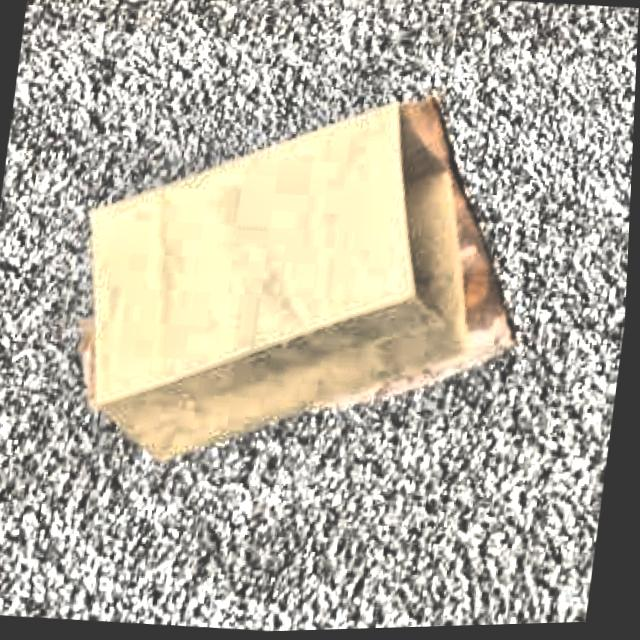Paper-bag: (38, 73, 548, 501)
